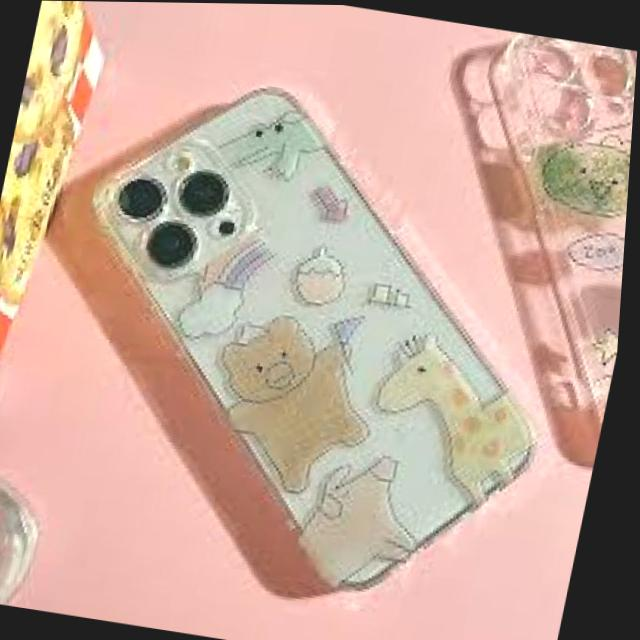Smartphone: (88, 77, 556, 612)
